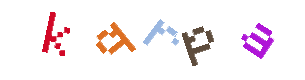A: (219, 0, 299, 80)
K: (46, 0, 126, 80)
P: (156, 0, 236, 80)
Q: (111, 0, 191, 80)
R: (122, 0, 202, 80)
